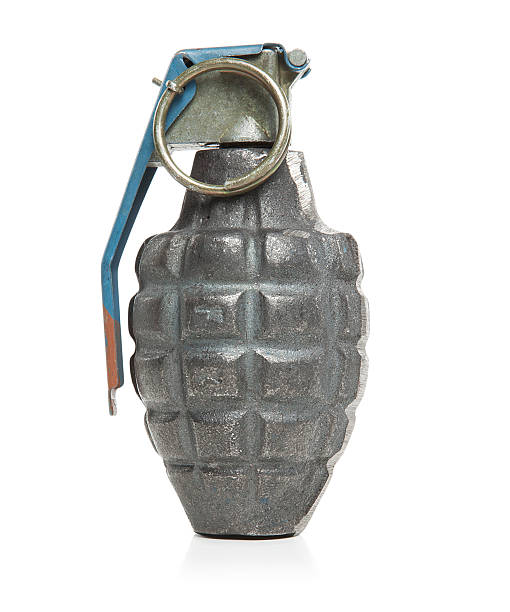e1: (94, 45, 368, 544)
